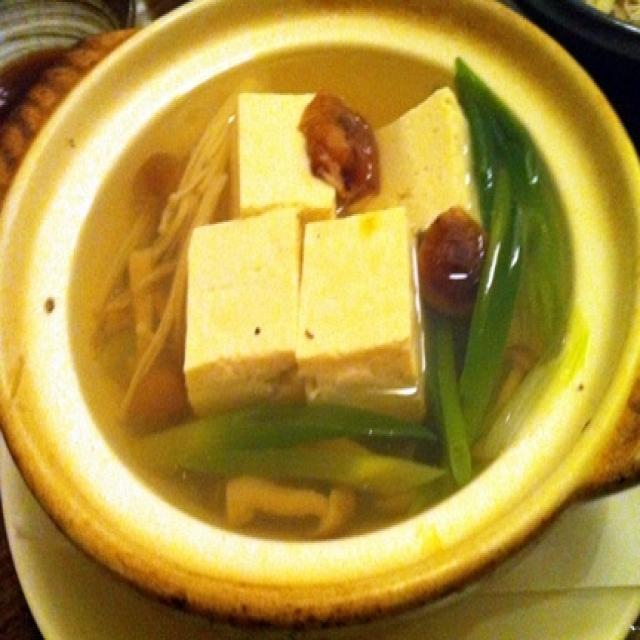豆腐料理: (42, 19, 591, 574)
